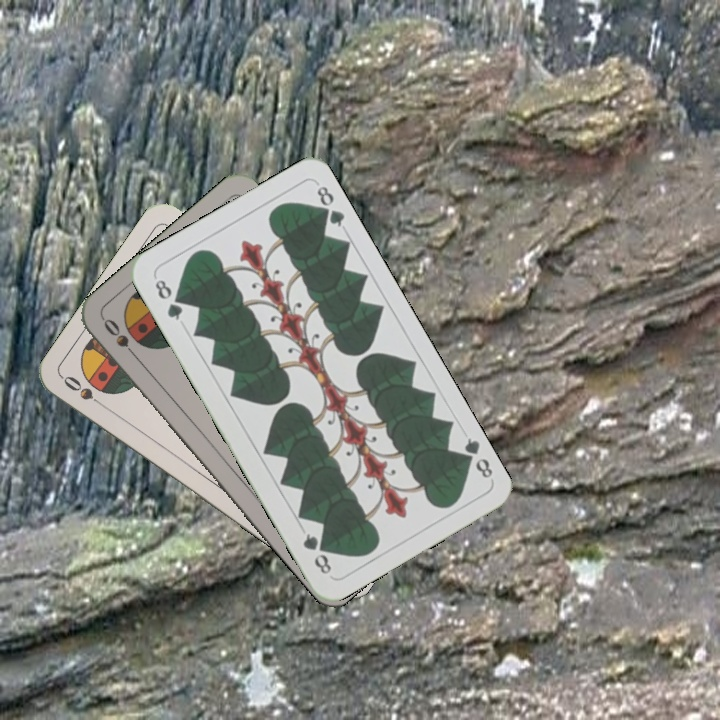G8: (455, 433, 496, 481), (150, 275, 186, 323)
SO: (99, 314, 143, 364), (59, 371, 111, 412)
